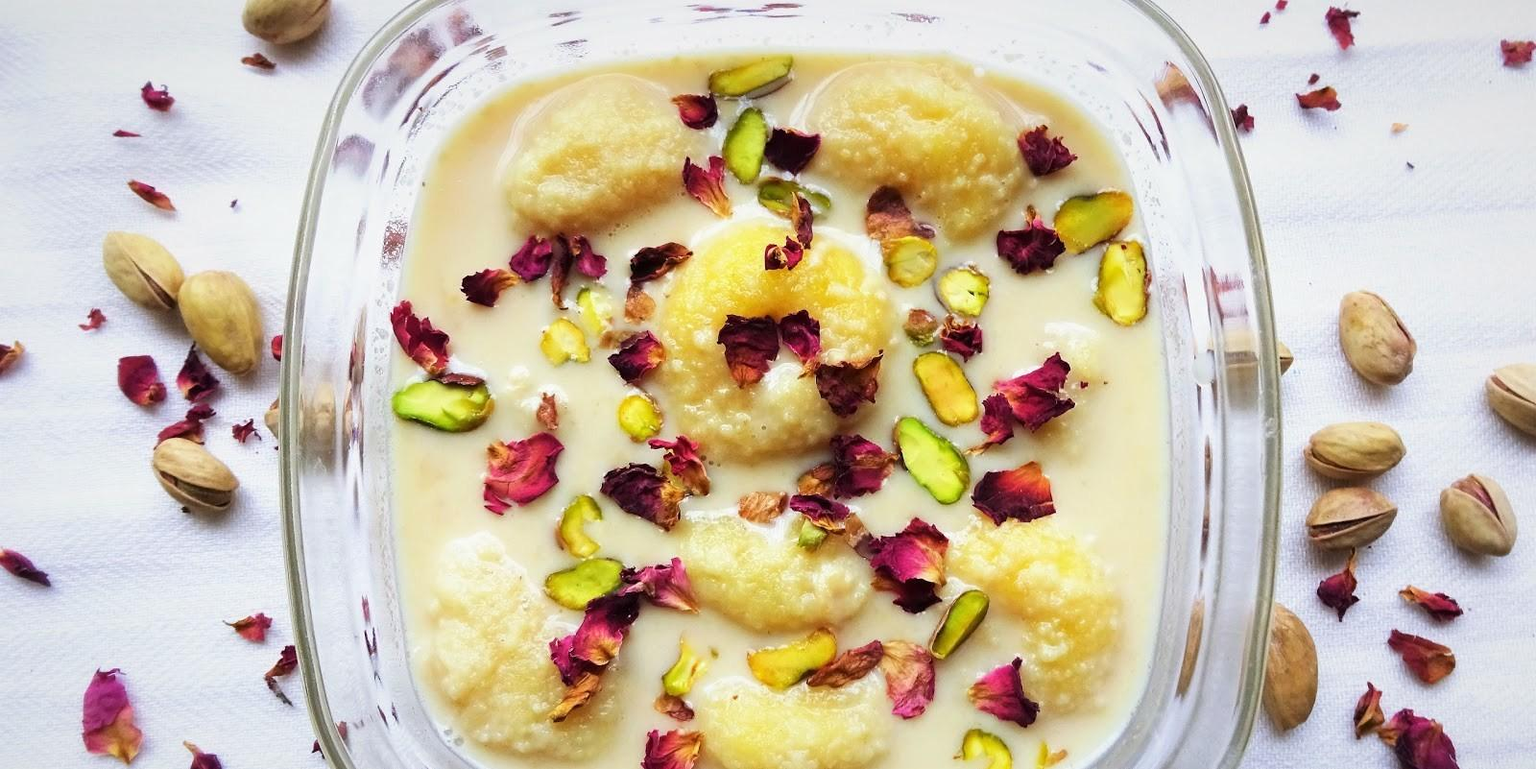RasMalai: (388, 42, 1176, 769)
